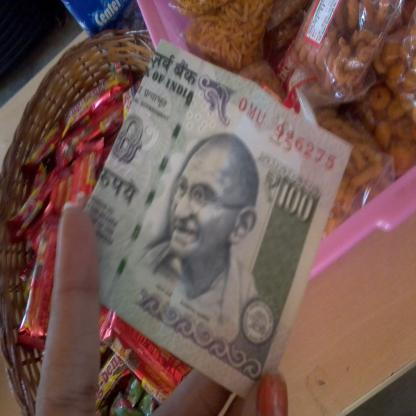Old100Front: (84, 37, 353, 401)
